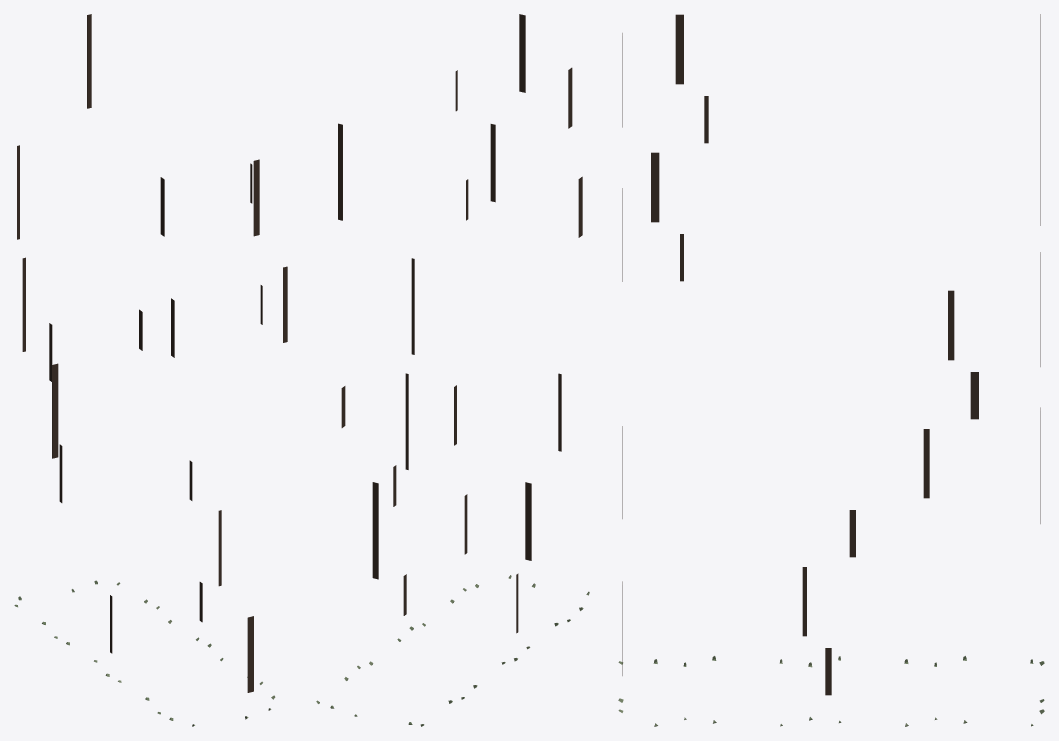
File: surge_pylon_48_detail2.glb
The picture shows the model from 3 angles, left to right: view 1: azimuth 30°, elevation 25°; view 2: azimuth 150°, elevation 25°; view 3: azimuth 270°, elevation 25°; orthographic projection. The views are drawn at different scales.
Parts seen in each view (by area): view 1: surge_pylon_48_detail2_mesh; view 2: surge_pylon_48_detail2_mesh; view 3: surge_pylon_48_detail2_mesh.
Boxes of the visible parts, x1,y1,x2,y2 form: surge_pylon_48_detail2_mesh: (14,14,287,726); surge_pylon_48_detail2_mesh: (316,14,589,726); surge_pylon_48_detail2_mesh: (618,14,1044,726).
Size of the model in its own units: 4.24 by 22.09 by 12.24.
